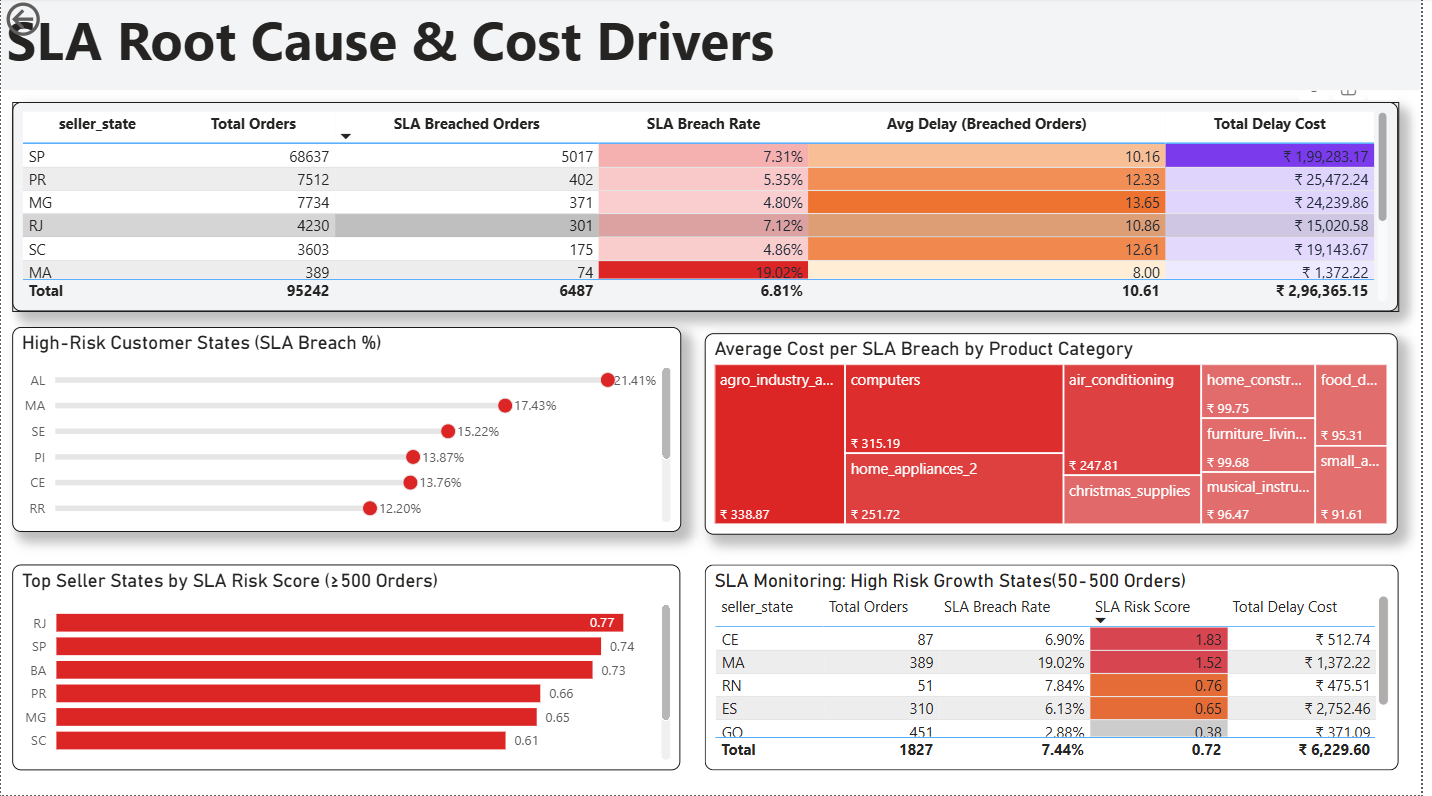

The page's visual inventory and layout, read from the dashboard file:
{"tool":"powerbi","page":{"name":"SLA Root Cause & Cost Drivers","canvas":[1280,720],"ordinal":1},"visuals":[{"type":"tableEx","fields":{"Values":["public sla_final.seller_state","public sla_final.Total Orders","public sla_final.SLA Breached Orders","public sla_final.SLA Breach Rate","public sla_final.Avg Delay (Breached Orders)","public sla_final.Total Delay Cost"]},"box":[10.2,94.5,1249.3,189.1],"z":0},{"type":"treemap","title":"Average Cost per SLA Breach by Product Category","fields":{"Group":["public sla_final.product_category_name_english"],"Values":["public sla_final.Cost per Breached Order"]},"box":[634.9,302.8,624.7,181.4],"z":1000},{"type":"textbox","box":[0,0,1280,84.3],"z":2000},{"type":"clusteredBarChart","title":"High-Risk Customer States (SLA Breach %)","fields":{"Category":["public sla_final.customer_state"],"Y":["public sla_final.SLA Breach Rate"]},"box":[10.4,297.8,603,185.2],"z":3000},{"type":"actionButton","box":[0,0,100,40],"z":4000},{"type":"barChart","title":"Top Seller States by SLA Risk Score (≥500 Orders)","fields":{"Category":["public sla_final.seller_state"],"Y":["public sla_final.SLA Risk Score"]},"box":[10.7,511.6,602.6,185.4],"z":5000},{"type":"tableEx","title":"SLA Monitoring: High Risk Growth States(50-500 Orders)","fields":{"Values":["public sla_final.seller_state","public sla_final.Total Orders","public sla_final.SLA Breach Rate","public sla_final.SLA Risk Score","public sla_final.Total Delay Cost"]},"box":[634.7,511.6,625.7,185.4],"z":7000}]}

Visuals, with their boxes in screenshot pixels (x1, y1, x2, y2), scaled from the page's 1280x720 canvas onto the 1432x796 screenshot:
tableEx - public sla_final.seller_state x public sla_final.Total Orders: [11, 104, 1409, 314]
"Average Cost per SLA Breach by Product Category" treemap: [710, 335, 1409, 535]
textbox: [0, 0, 1431, 93]
"High-Risk Customer States (SLA Breach %)" clusteredBarChart: [12, 329, 686, 534]
actionButton: [0, 0, 112, 44]
"Top Seller States by SLA Risk Score (≥500 Orders)" barChart: [12, 566, 686, 771]
"SLA Monitoring: High Risk Growth States(50-500 Orders)" tableEx: [710, 566, 1410, 771]
